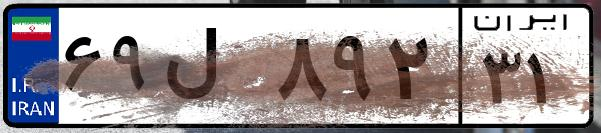1: (525, 38, 570, 115)
2: (385, 28, 445, 110)
3: (475, 38, 525, 113)
6: (57, 26, 110, 100)
8: (270, 28, 330, 110)
9: (330, 28, 385, 110), (110, 28, 158, 98)
ل: (158, 20, 270, 120)
